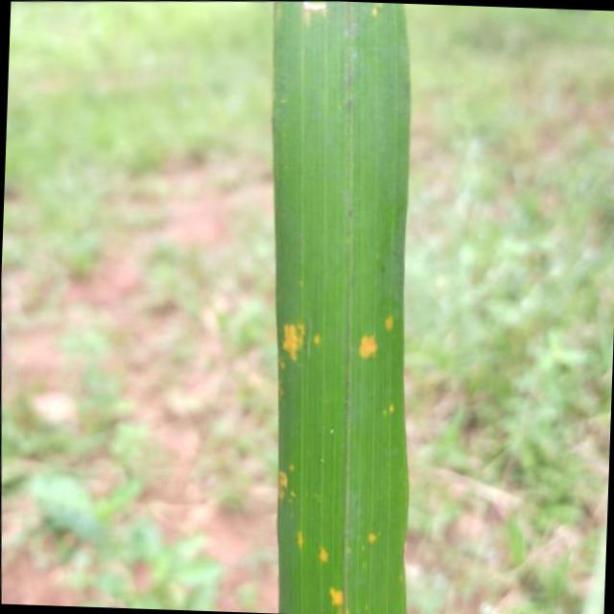Kalium: (271, 1, 412, 614)
